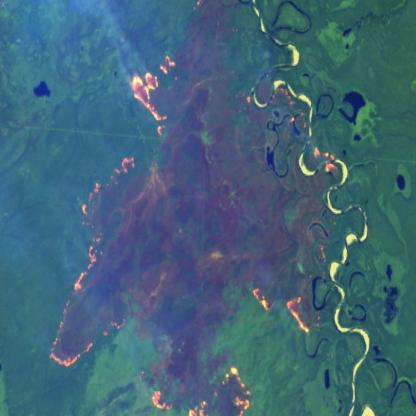fire: (43, 152, 136, 368), (231, 76, 346, 192), (253, 234, 330, 339), (150, 362, 266, 416), (126, 53, 178, 136)
